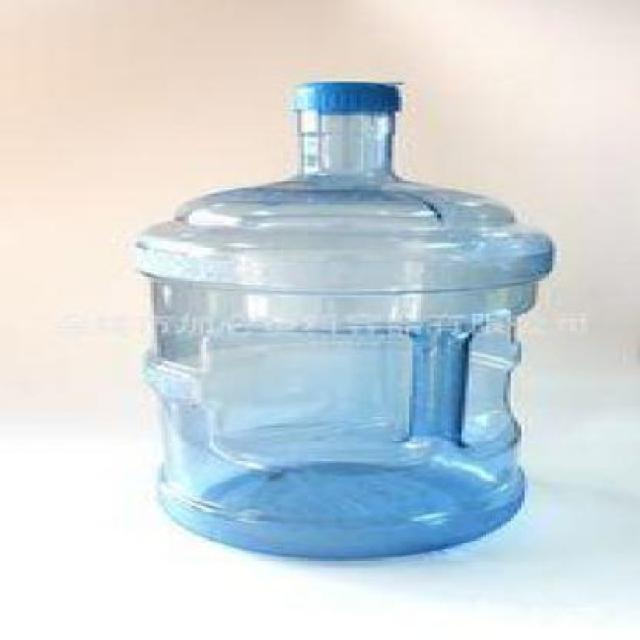coolerbottle: (117, 72, 561, 570)
